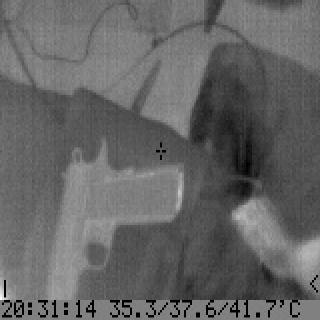Gun: (42, 135, 184, 300)
